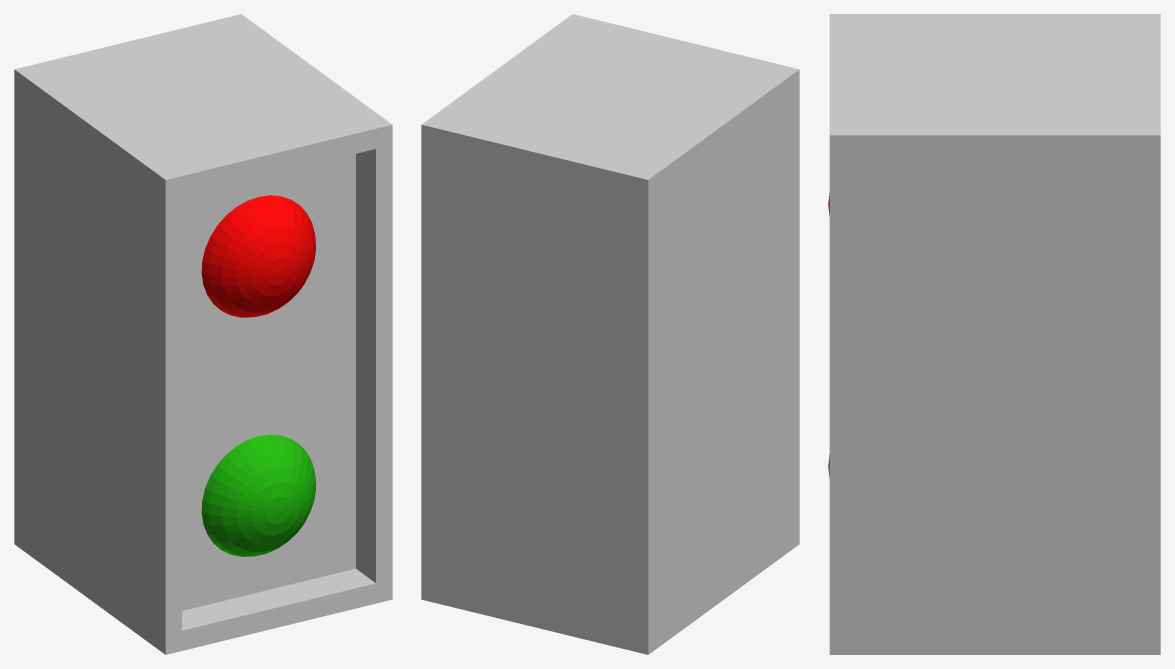
Rendered from Feu.FBX.
3 views of the same model, side by side, from view 1: azimuth 30°, elevation 25°; view 2: azimuth 150°, elevation 25°; view 3: azimuth 270°, elevation 25° (orthographic). The views are drawn at different scales.
Visible parts, largest first — view 1: Feu, Feu rouge, Feu vert; view 2: Feu; view 3: Feu.
Part boxes in pixels (x1=…): Feu: x1=14, y1=14, x2=392, y2=654; Feu rouge: x1=201, y1=195, x2=315, y2=317; Feu vert: x1=201, y1=434, x2=315, y2=556; Feu: x1=421, y1=14, x2=799, y2=654; Feu: x1=829, y1=14, x2=1160, y2=654.
Size of the model in its own units: 20 by 40.01 by 23.19.
